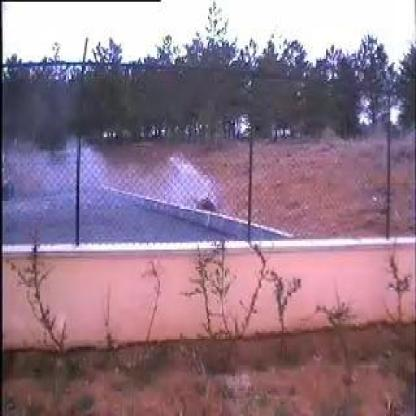-: (50, 129, 233, 237)
